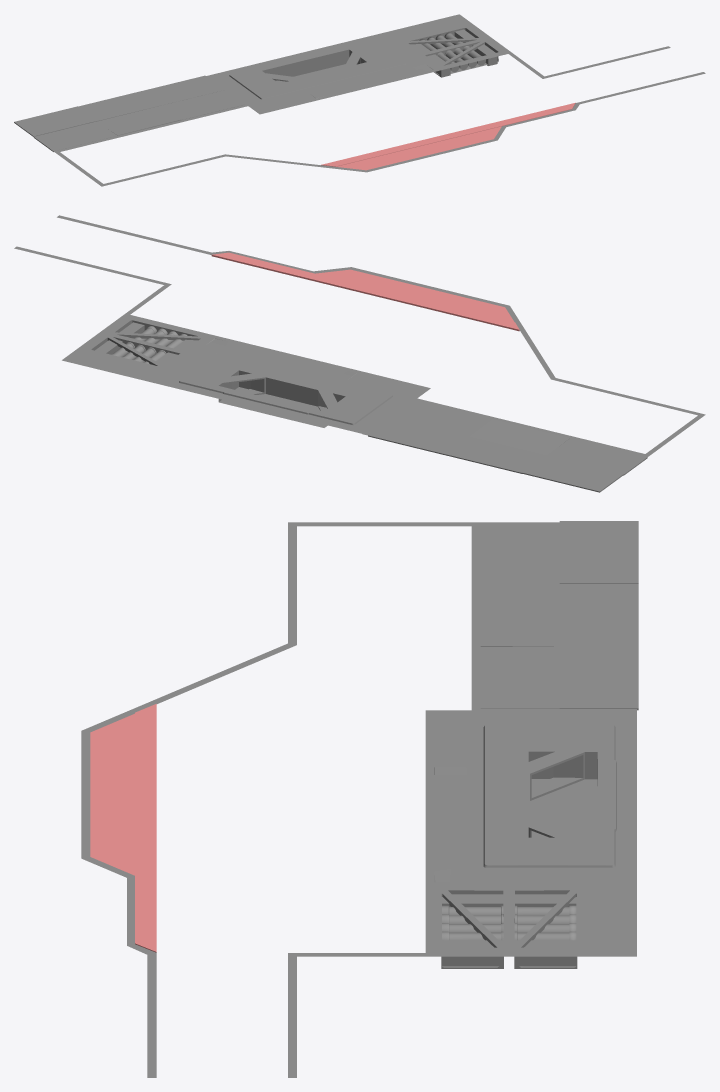
File: S_Envi_FZFBase_metal_01a.gltf
The picture shows the model from 3 angles, top to bottom: view 1: azimuth 30°, elevation 25°; view 2: azimuth 150°, elevation 25°; view 3: azimuth 270°, elevation 25°; orthographic projection. The views are drawn at different scales.
Visible parts, largest first — view 1: S_Envi_FZFBase_metal_01a; view 2: S_Envi_FZFBase_metal_01a; view 3: S_Envi_FZFBase_metal_01a.
Part boxes in pixels (<box>): S_Envi_FZFBase_metal_01a: <box>14,14,705,186</box>; S_Envi_FZFBase_metal_01a: <box>14,215,705,492</box>; S_Envi_FZFBase_metal_01a: <box>81,521,638,1077</box>.
Bounding box in the file's own units: 37.6 × 0.8638 × 15.95.
